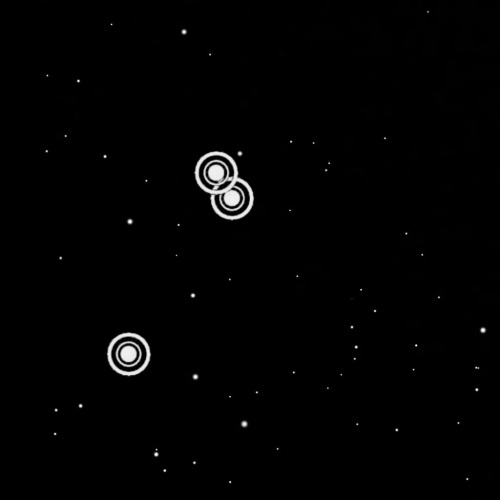canis_minor: (98, 143, 258, 390)
